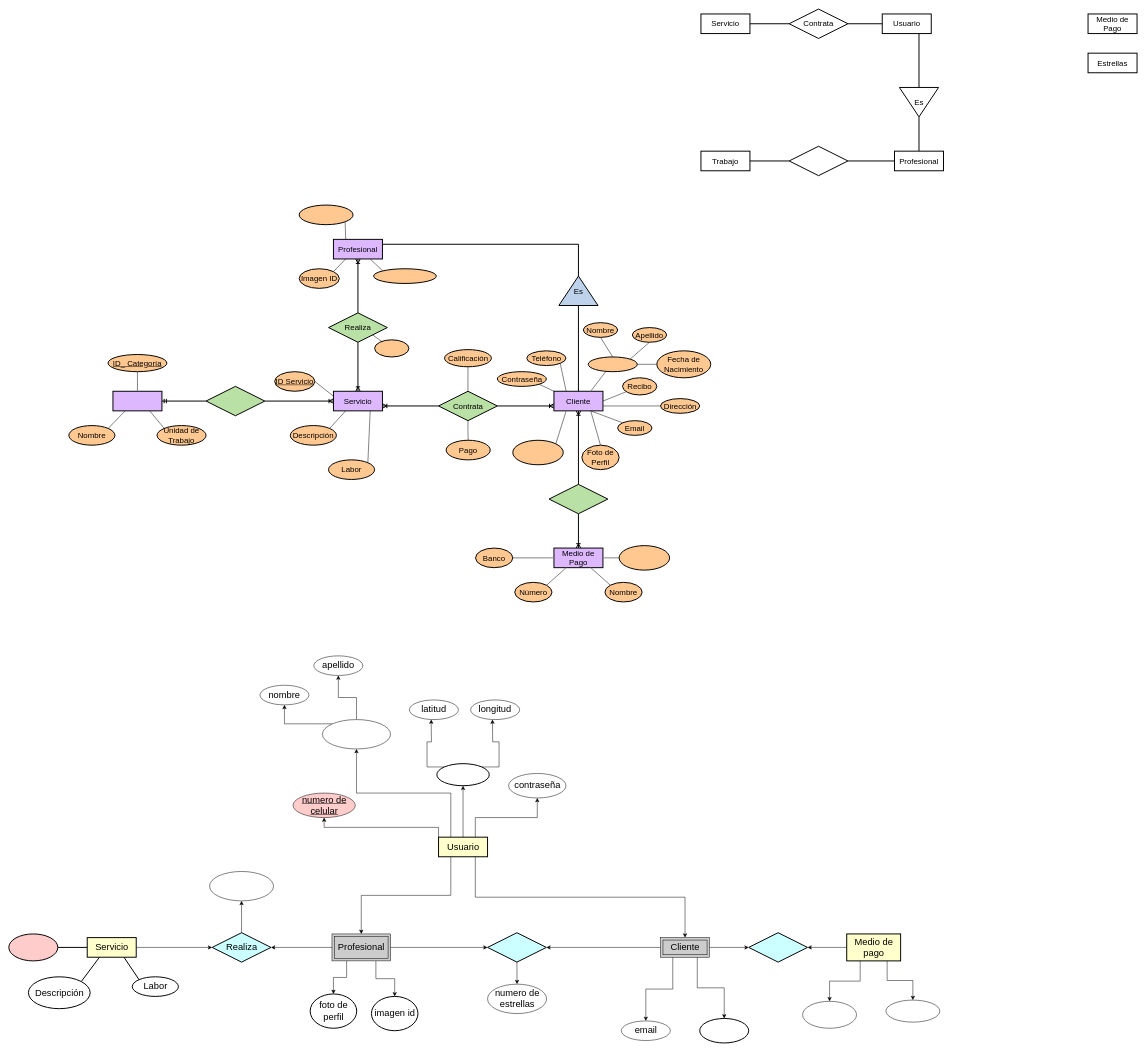
Image size: 1146x1052. Some labels were removed from this diagram. The centre of each missing label's shape, as x and y in pixels:
"Califica" belongs at (x=517, y=947).
"Categoría" belongs at (x=137, y=401).
"direccion" belongs at (x=463, y=774).
"Disponibilidad" belongs at (x=405, y=276).
"Documento ID" belongs at (x=538, y=452).
"ID Labor" belongs at (x=33, y=947).
"ID Profesional" belongs at (x=325, y=214).
"ID_Medio pago" belongs at (x=644, y=557).
"imagen recibo" belongs at (x=724, y=1030).
"Info Personal" belongs at (x=612, y=364).
"informacion personal" belongs at (x=356, y=734).
"Ofrece" belongs at (x=818, y=161).
"Pertenece" belongs at (x=235, y=401).
"Precio" belongs at (x=391, y=348).
"Precio x hora" belongs at (x=241, y=886).
"Registra" belongs at (x=578, y=499).
"tarjeta de credito" belongs at (x=912, y=1011).
"tarjeta debito" belongs at (x=829, y=1014).
"Tiene" belongs at (x=778, y=947).
